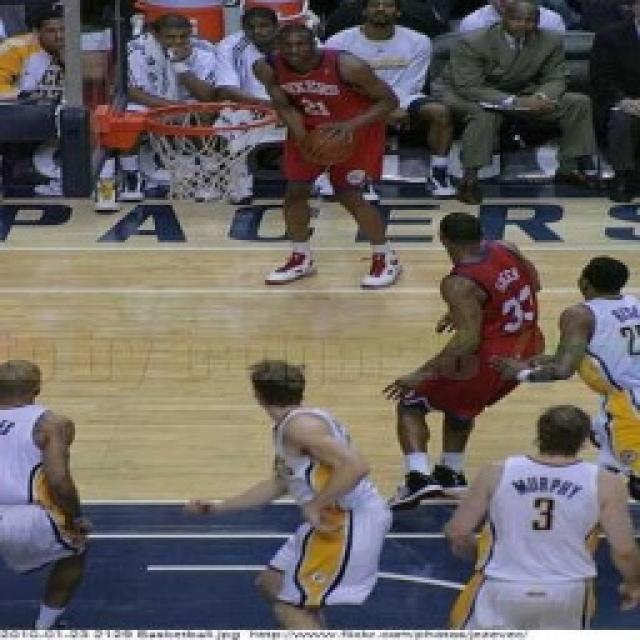basketball: (300, 119, 350, 170)
